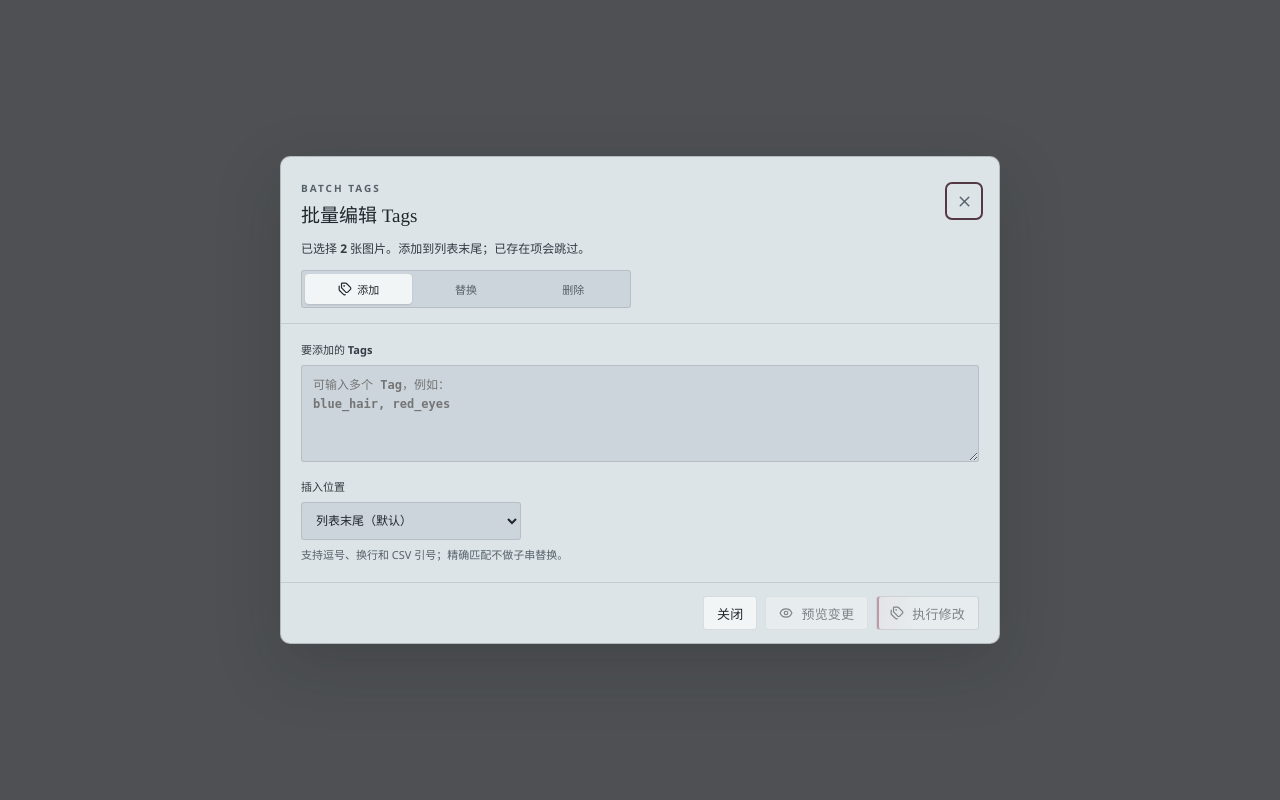
Scenario: batch Tags editing › invalidates a preview when switching to deletion and disables no-op execution
Type "already_there" into the text box labelled "要添加的 Tags" at (640, 414), box [301,365,979,462]
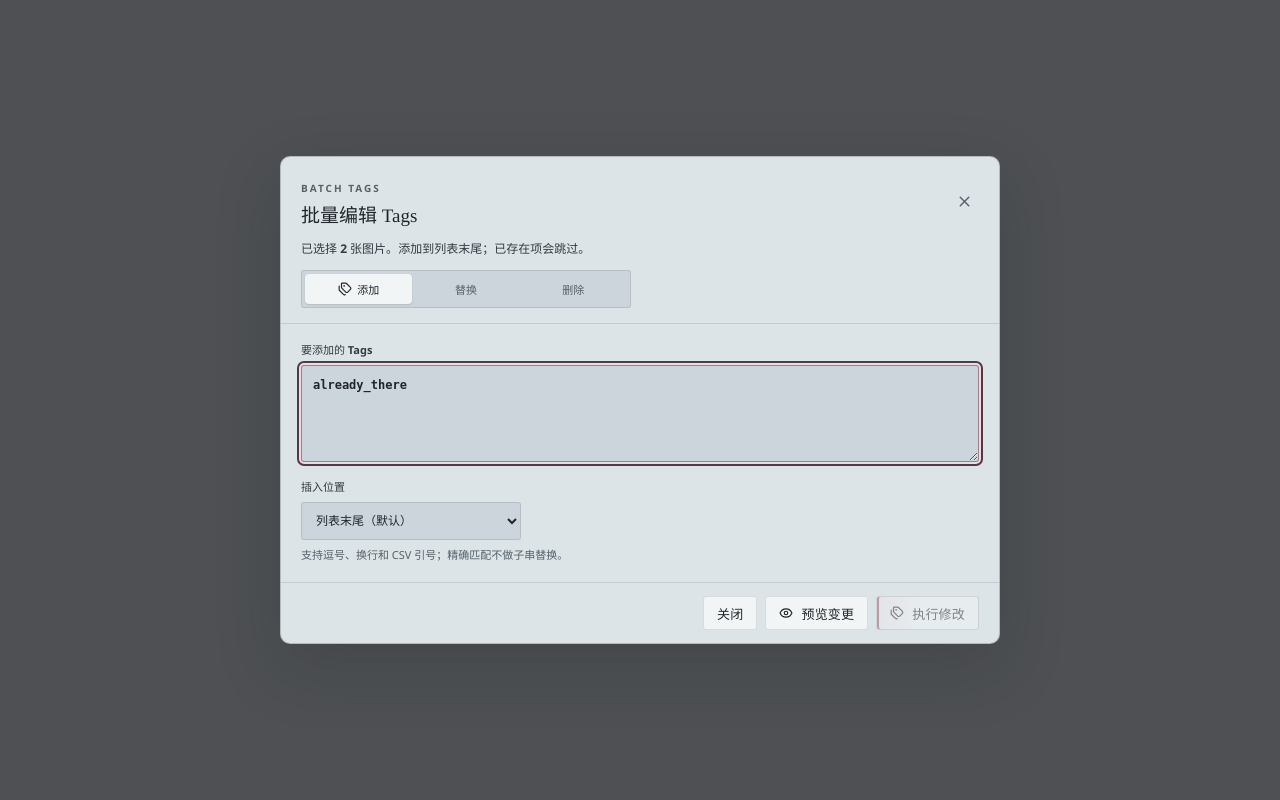
Click the button "预览变更" at (817, 613), box [765,596,868,630]
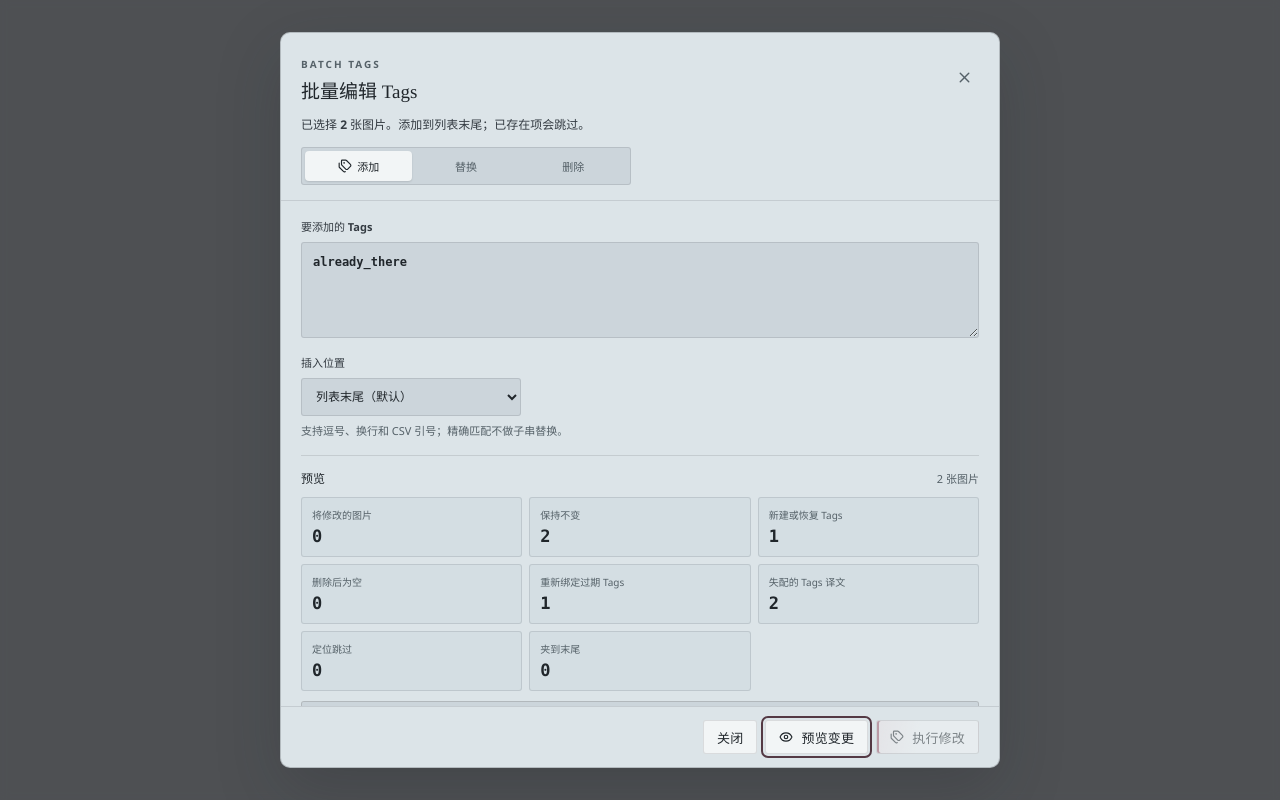
expect the button "执行修改" is disabled: met, box [876,720,979,754]
expect the text "预览" is shown: met, box [301,470,325,488]
Click the button "删除" at (573, 166), box [520,151,627,181]
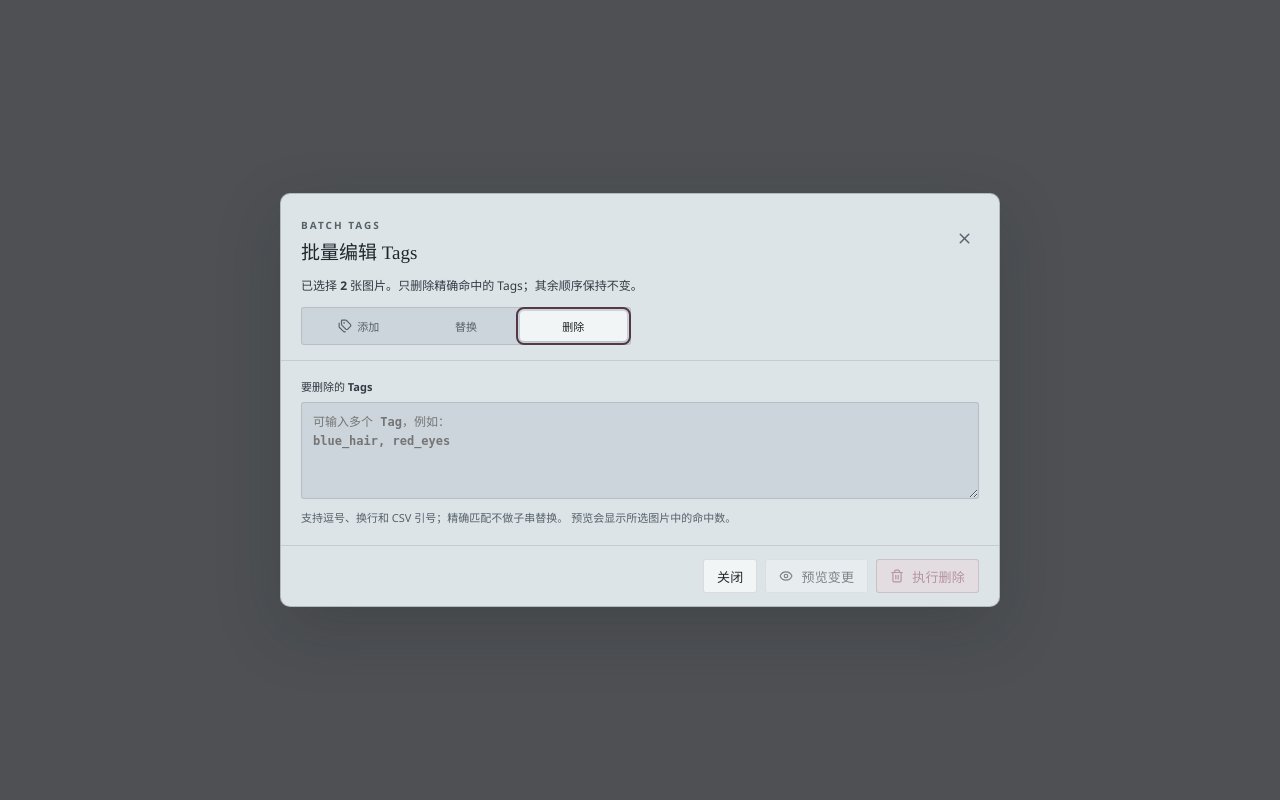
Type "old_tag" into the text box labelled "要删除的 Tags" at (640, 451), box [301,402,979,499]
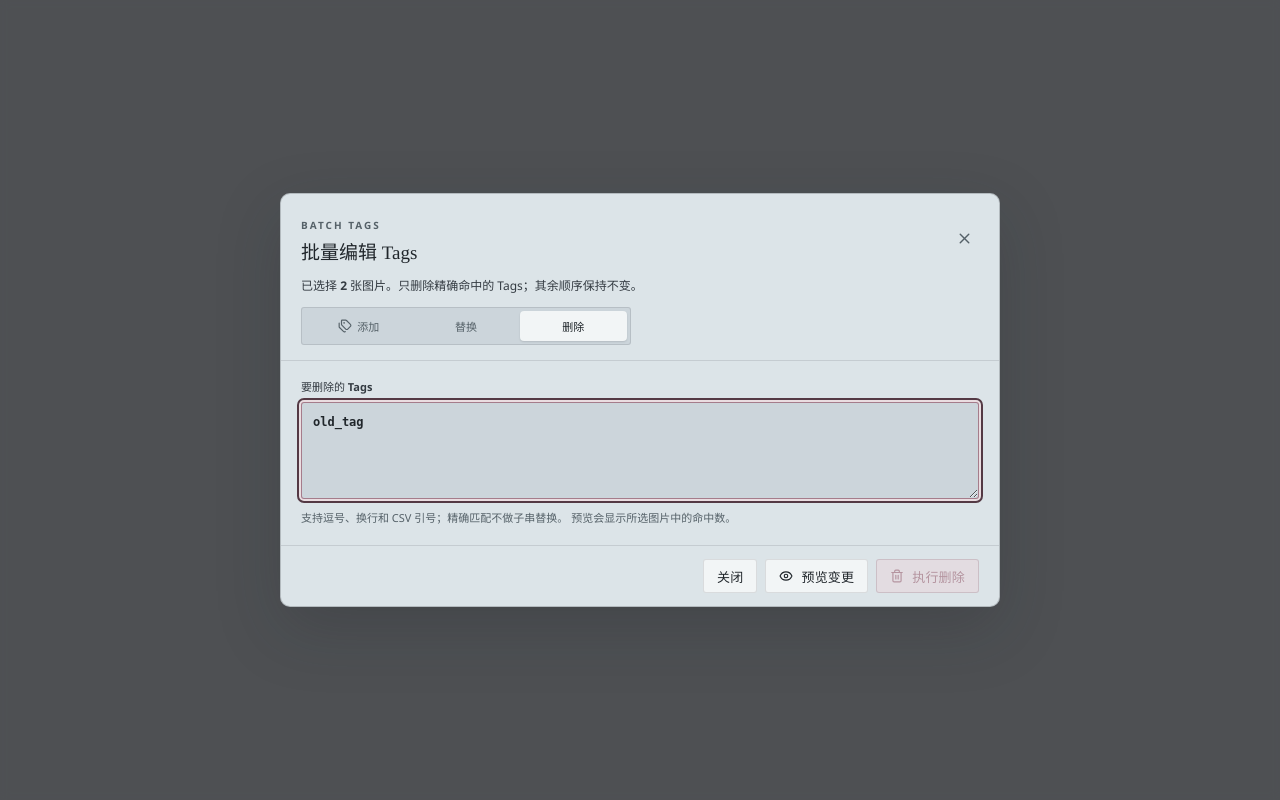
Click the button "预览变更" at (817, 576), box [765,559,868,593]
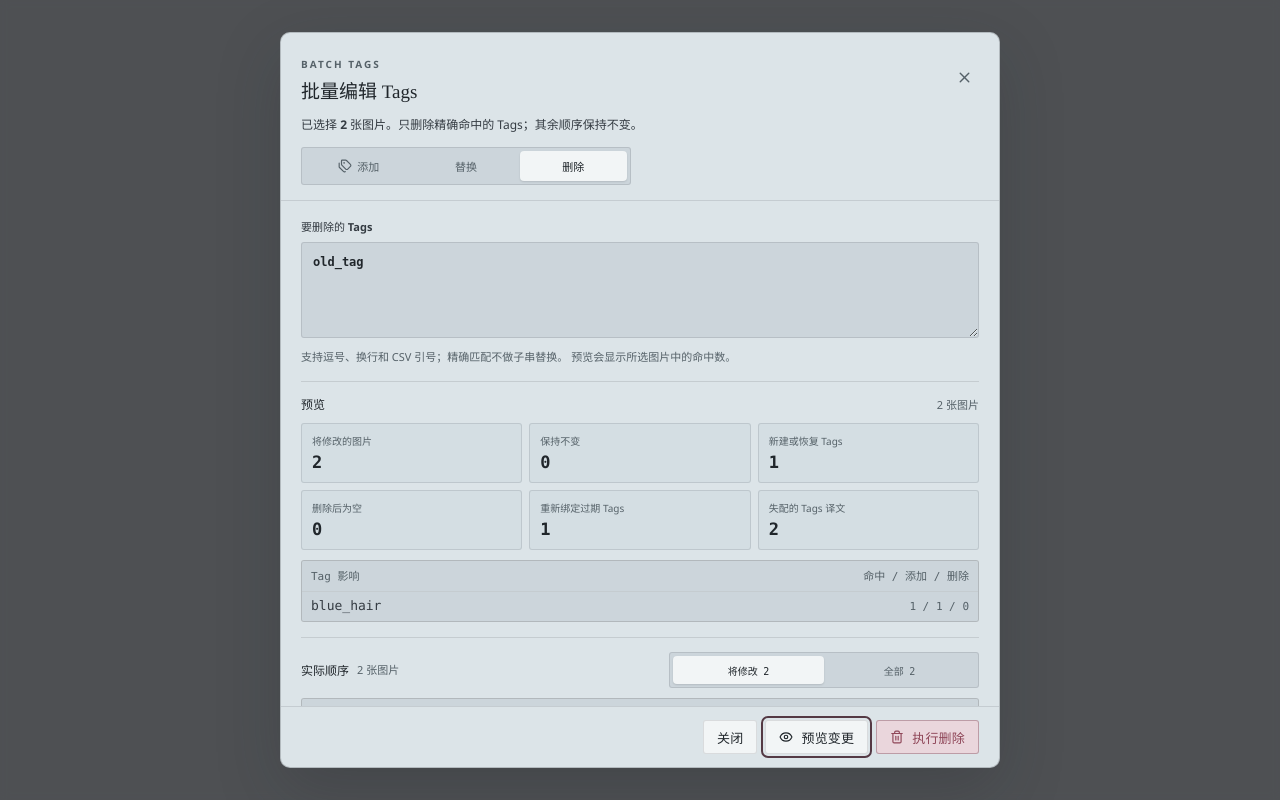
expect the button "执行删除" is enabled: met, box [876,720,979,754]
